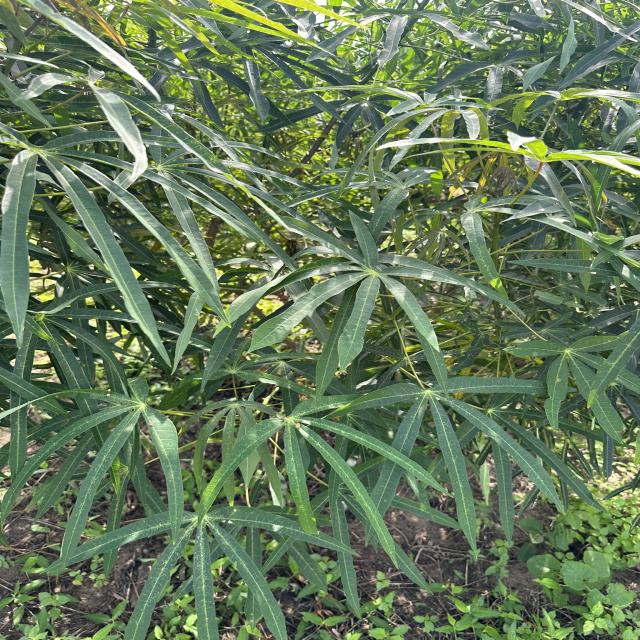Mosca: (378, 426, 405, 455), (69, 252, 99, 276), (529, 345, 548, 371), (222, 505, 243, 527), (302, 515, 329, 532), (420, 374, 443, 392), (484, 270, 502, 292)
